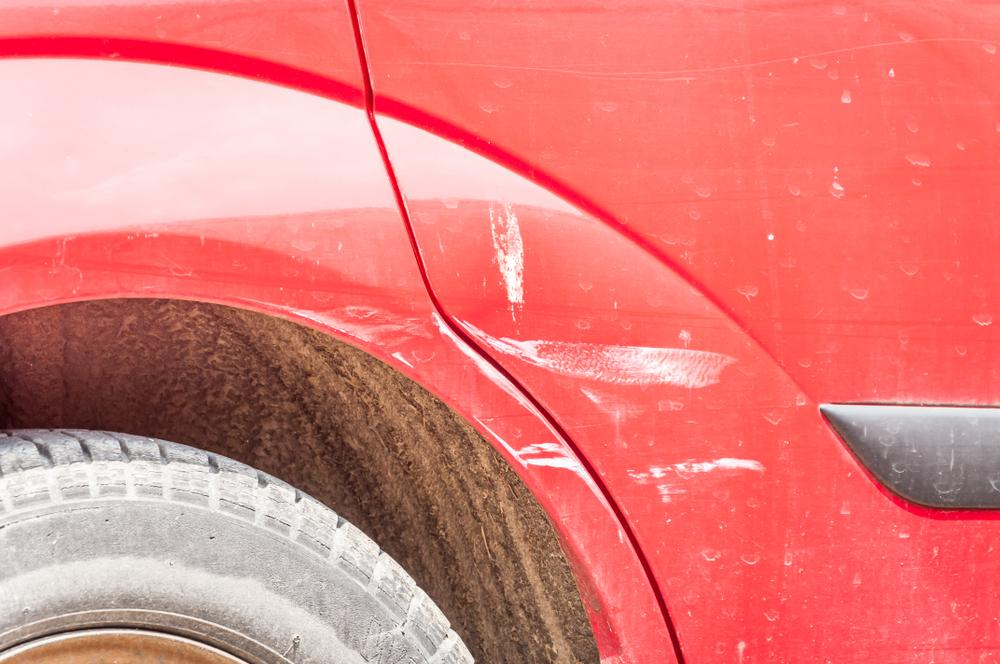scratch: (455, 201, 741, 396), (426, 307, 631, 537), (628, 452, 775, 504)
